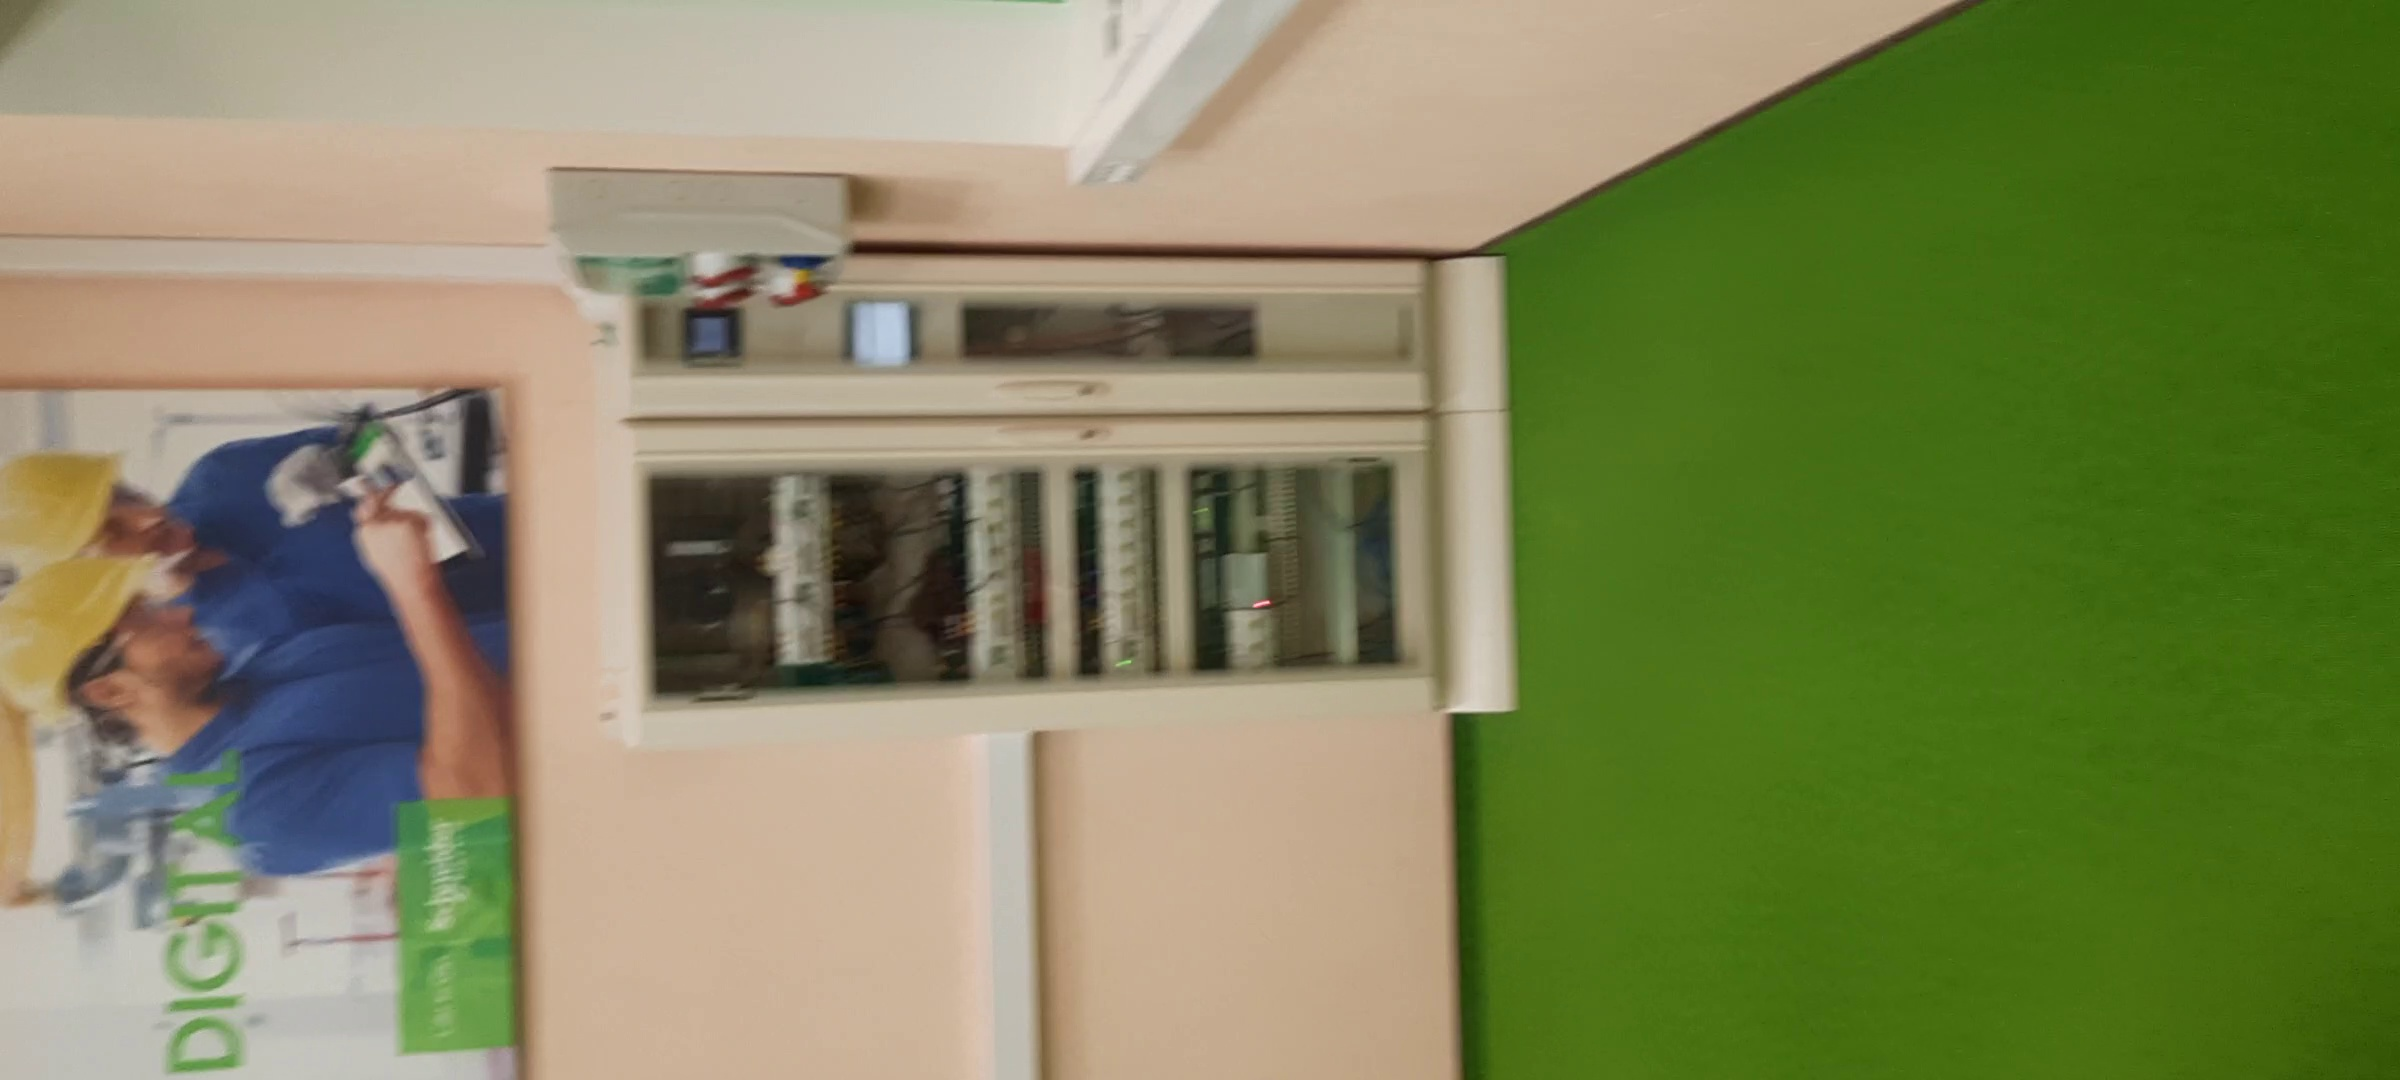stand1: (594, 248, 1528, 724)
